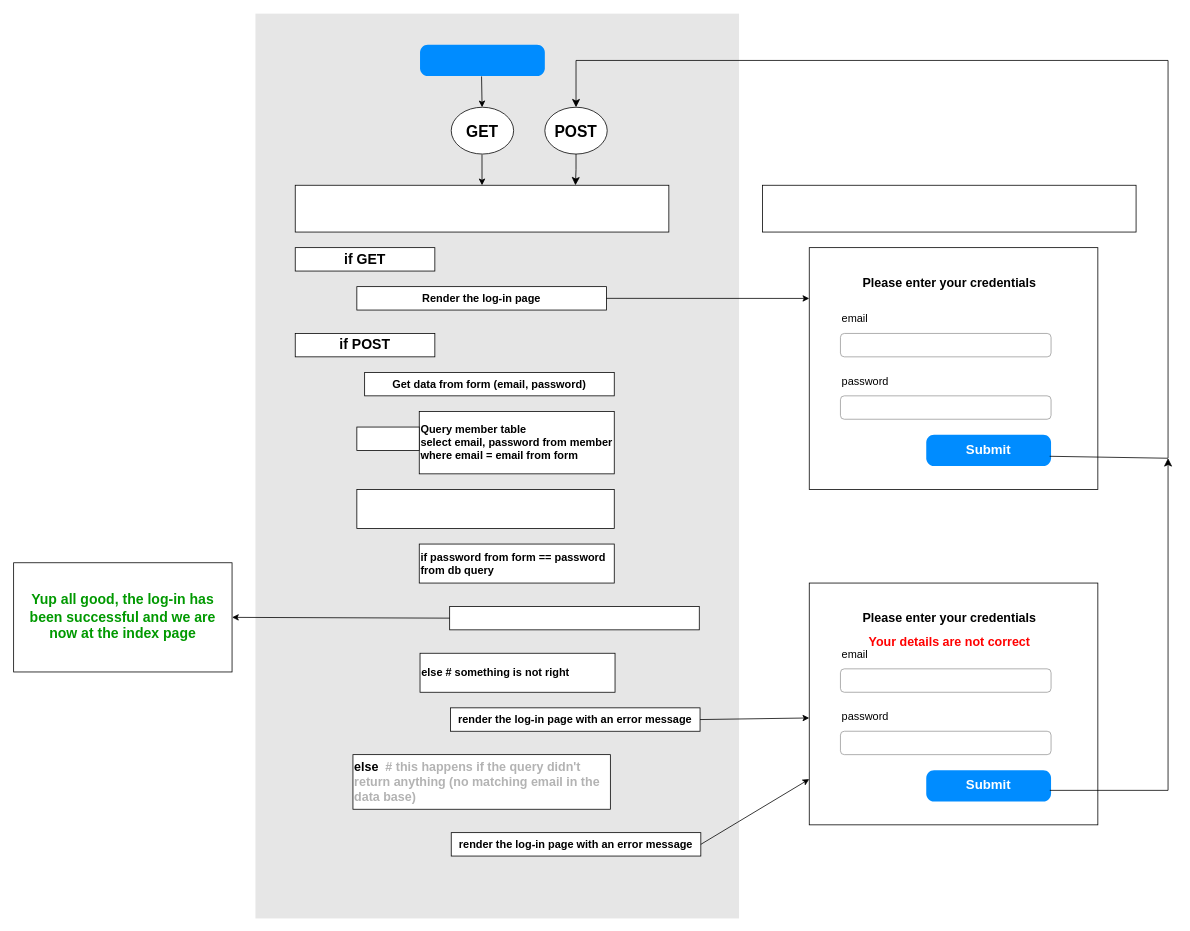
The diagram is 1190 pixels wide and 931 high, and some of its shapes have lost their labels. Each missing label, with the centre of its shape:
if result # does the result exists (it could be nothing ): the point at 485,508
Log-In: the point at 482,60
log-in (app.route, function) with GET, POST methods: the point at 481,208
redirect to index page: the point at 574,618
result =: the point at 387,438
Web Page: the point at 949,208
